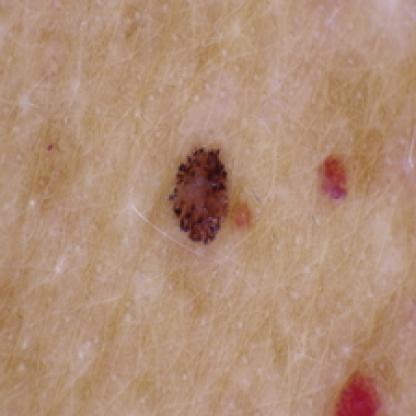Skin_Cancer-Malignant: (169, 146, 230, 242)
